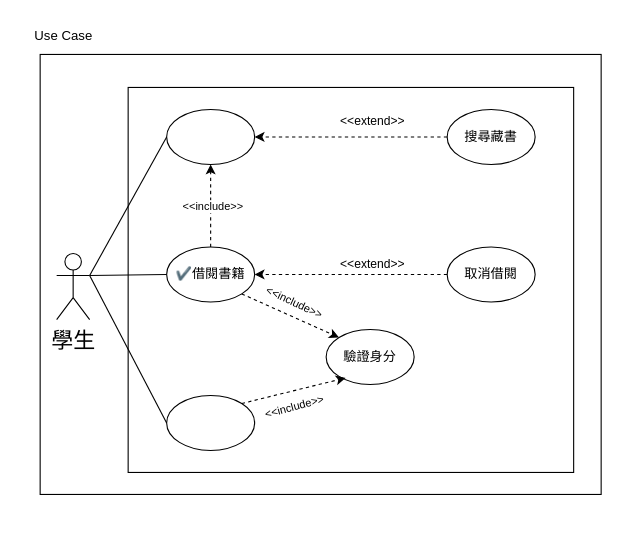
Some shapes in this 620 by 535 pixel diagram are drawn without their labels. Each missing label, with the centre of its shape:
歸還書籍: pixel 210 422
瀏覽藏書: pixel 210 136
